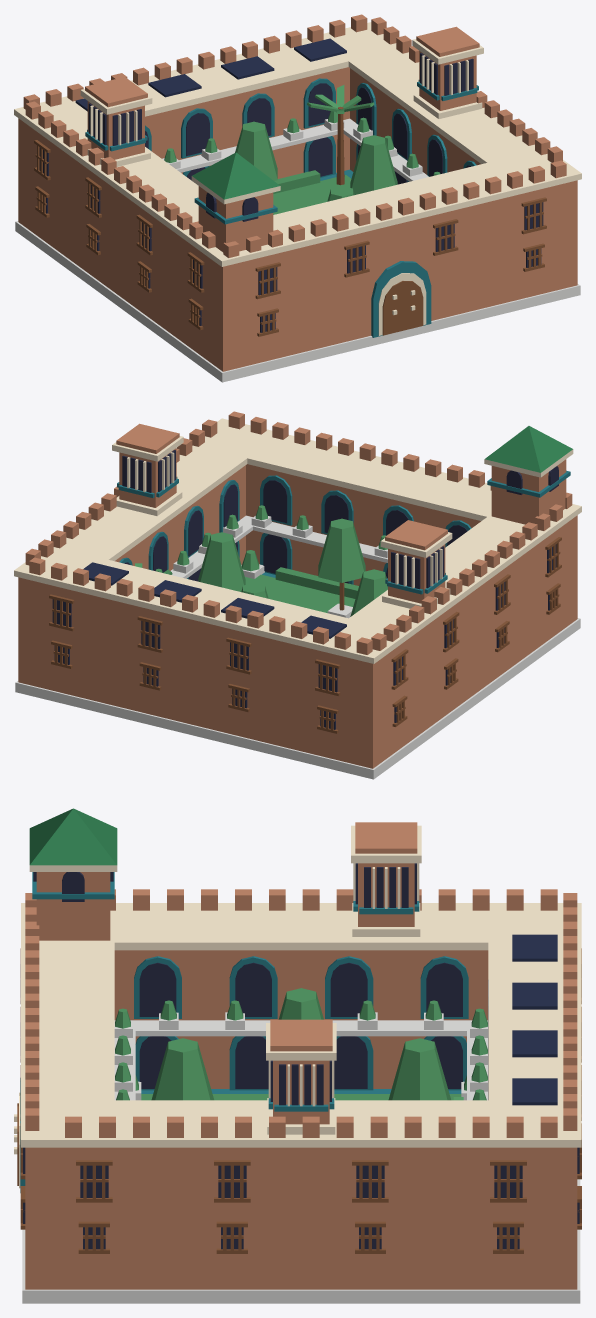
Rendered from house-2x2-2f-riad-a-solar.glb.
3 renders of one model, top to bottom at view 1: azimuth 30°, elevation 25°; view 2: azimuth 150°, elevation 25°; view 3: azimuth 270°, elevation 25°, orthographic. The views are drawn at different scales.
Parts seen in each view (by area): view 1: house-2x2-2f-riad-a-solar; view 2: house-2x2-2f-riad-a-solar; view 3: house-2x2-2f-riad-a-solar.
Boxes of the visible parts, x1,y1,x2,y2 form: house-2x2-2f-riad-a-solar: [14, 14, 581, 382]; house-2x2-2f-riad-a-solar: [14, 411, 581, 779]; house-2x2-2f-riad-a-solar: [14, 808, 581, 1303].
Bounding box in the file's own units: 1.98 × 1.1 × 2.01.
1 material, 1 textured.
